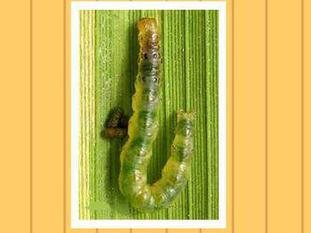pest: (118, 18, 197, 210)
